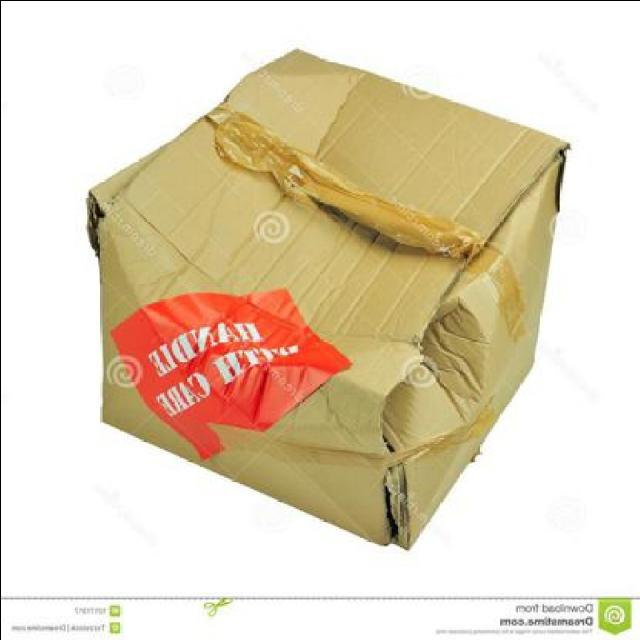defect: (80, 44, 576, 556)
